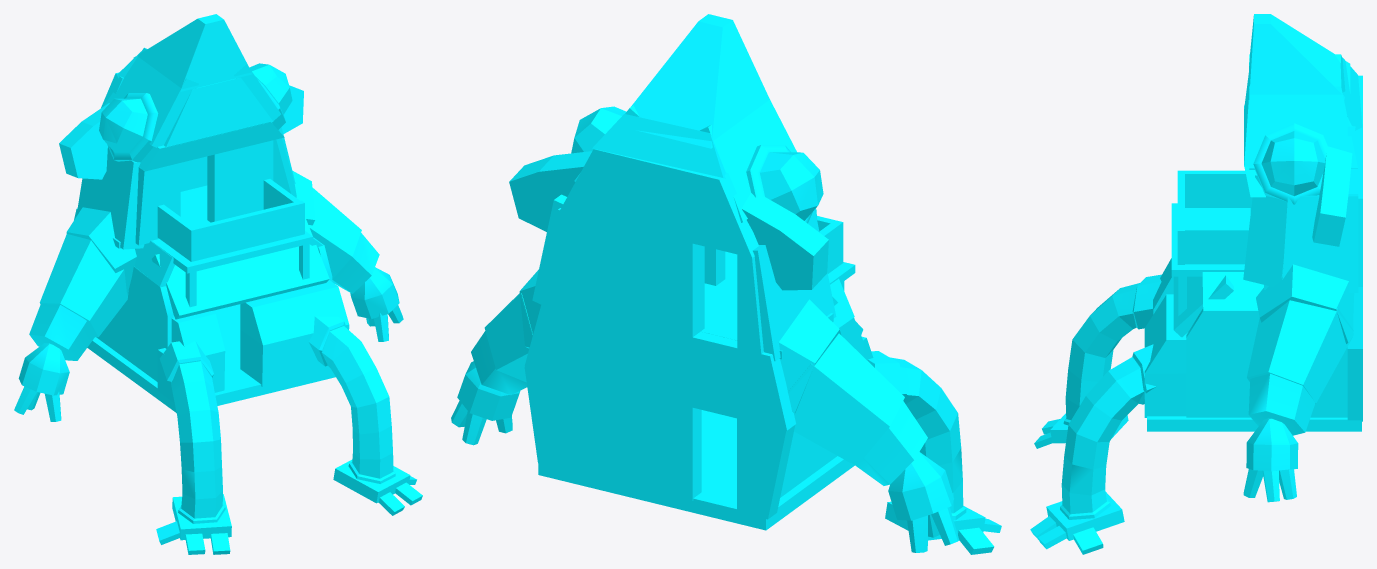
Rendered from SM_Bld_Bar_Entrance_01_Collision.fbx.
The picture shows the model from 3 angles, left to right: view 1: azimuth 30°, elevation 25°; view 2: azimuth 150°, elevation 25°; view 3: azimuth 270°, elevation 25°; orthographic projection. The views are drawn at different scales.
Parts seen in each view (by area): view 1: SM_Bld_Bar_Entrance_01_Collision; view 2: SM_Bld_Bar_Entrance_01_Collision; view 3: SM_Bld_Bar_Entrance_01_Collision.
Part boxes in pixels (left/top/right/bottom): SM_Bld_Bar_Entrance_01_Collision: left=14, top=14, right=422, bottom=554; SM_Bld_Bar_Entrance_01_Collision: left=451, top=14, right=1001, bottom=554; SM_Bld_Bar_Entrance_01_Collision: left=1030, top=14, right=1362, bottom=554.
Bounding box in the file's own units: 1140 × 1229 × 780.
